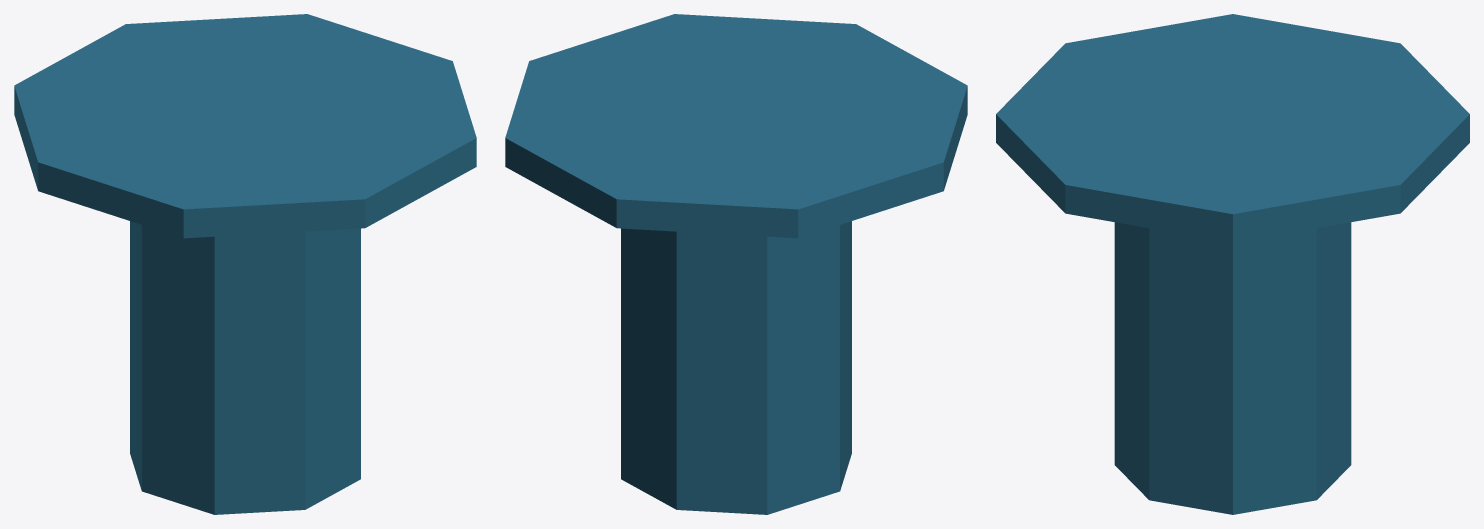
Rendered from table.fbx.
3 views of the same model, side by side, from view 1: azimuth 30°, elevation 25°; view 2: azimuth 150°, elevation 25°; view 3: azimuth 270°, elevation 25° (orthographic).
Visible parts, largest first — view 1: table; view 2: table; view 3: table.
Boxes of the visible parts, x1,y1,x2,y2 form: table: (14,14,476,514); table: (505,14,967,514); table: (996,14,1469,514).
Bounding box in the file's own units: 400 × 327 × 400.
